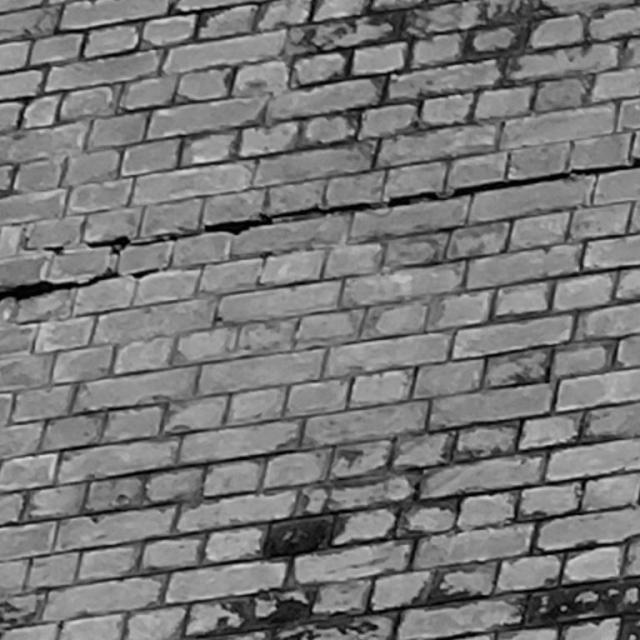crack: (1, 156, 639, 303)
